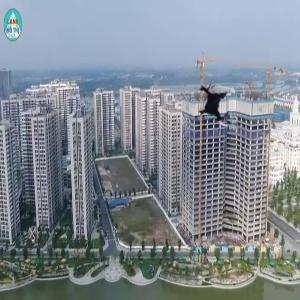drone: (191, 78, 245, 132)
